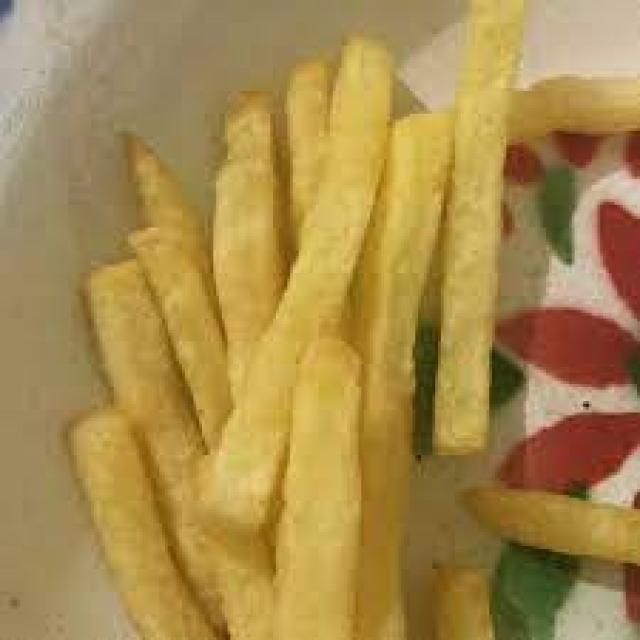kentang goreng: (430, 0, 521, 461), (273, 338, 364, 640)
